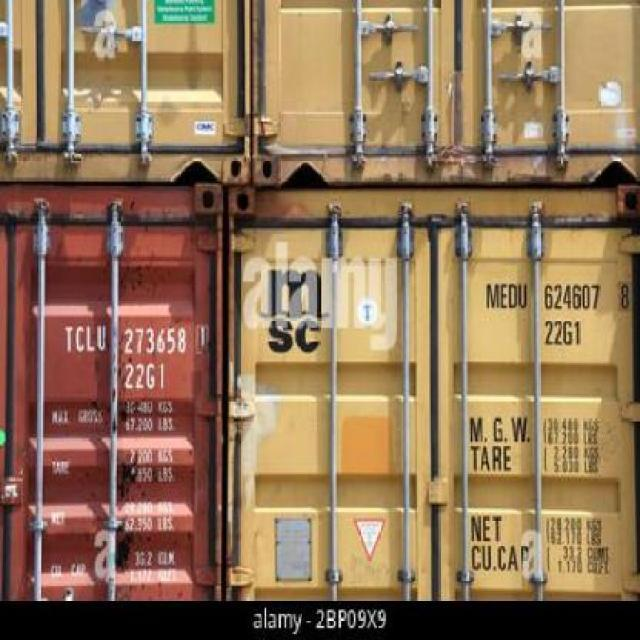ISO: (121, 363, 166, 393), (544, 320, 584, 346)
container_number: (65, 324, 210, 356), (484, 280, 632, 308)
